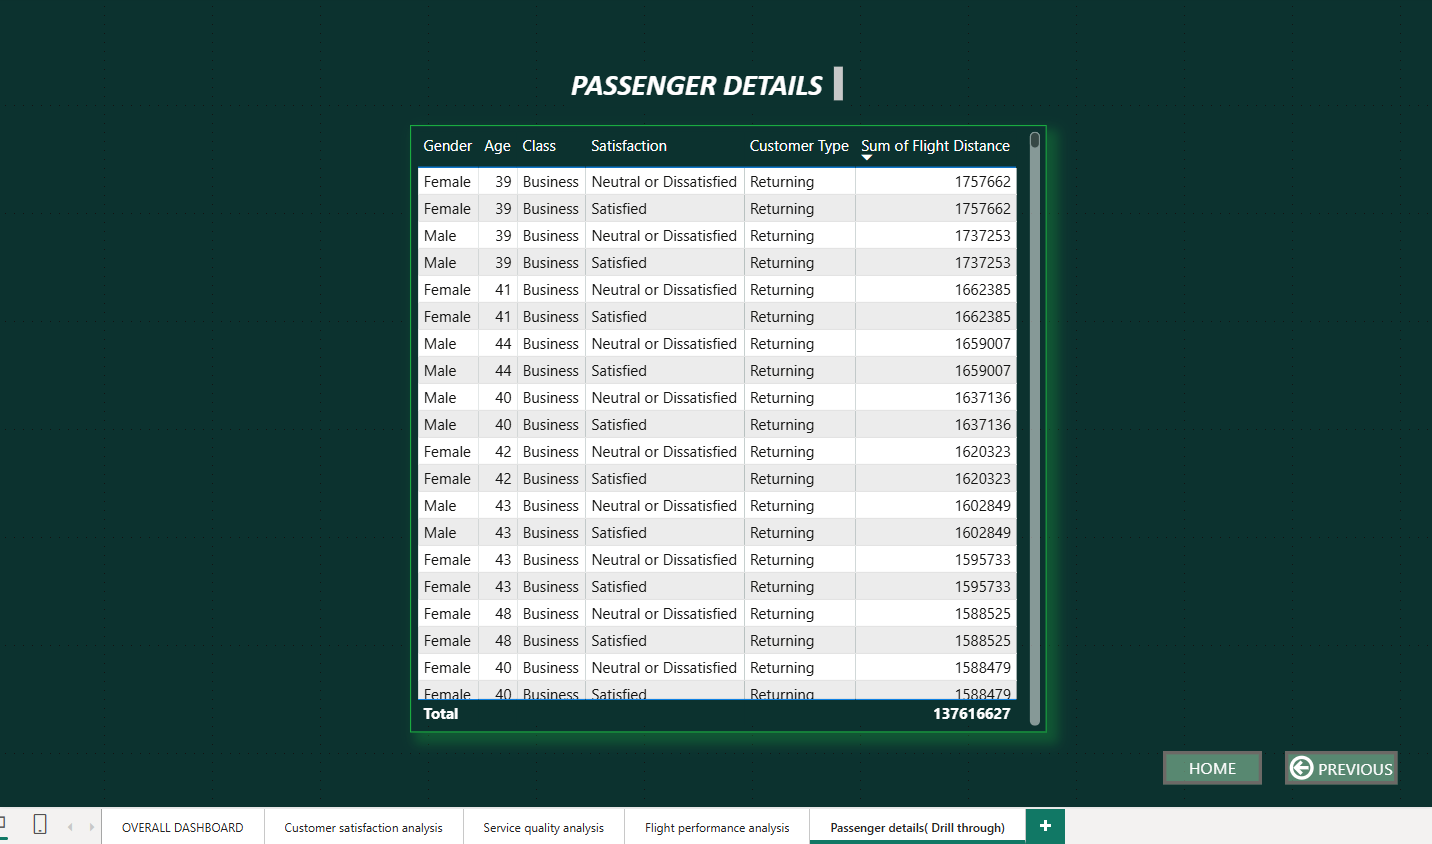

Layout of this report page (visuals, bound fields, positions):
{"tool":"powerbi","page":{"name":"Passenger details( Drill through)","canvas":[1280,720],"ordinal":4},"visuals":[{"type":"actionButton","box":[0,0,100,40],"z":0},{"type":"tableEx","fields":{"Values":["Table4.Gender","Table4.Age","Table4.Class","Table1.Satisfaction","Table4.Customer Type","Sum(Table3.Flight Distance)"]},"box":[368,113.8,566.2,540.4],"z":1000},{"type":"actionButton","box":[1146.1,670,100,29.7],"z":2000},{"type":"textbox","box":[505.8,56.9,252.4,40.9],"z":3000},{"type":"actionButton","box":[1037.2,670,88.1,29.7],"z":4000}]}

Visuals, with their boxes on the page's 1280x720 design canvas (x1, y1, x2, y2). These are canvas units, not pixel positions in the 1432x844 screenshot, which may show the page scaled, cropped or inside an application window:
actionButton: l=0, t=0, r=100, b=40
tableEx - Table4.Gender x Table4.Age: l=368, t=114, r=934, b=654
actionButton: l=1146, t=670, r=1246, b=700
textbox: l=506, t=57, r=758, b=98
actionButton: l=1037, t=670, r=1125, b=700
